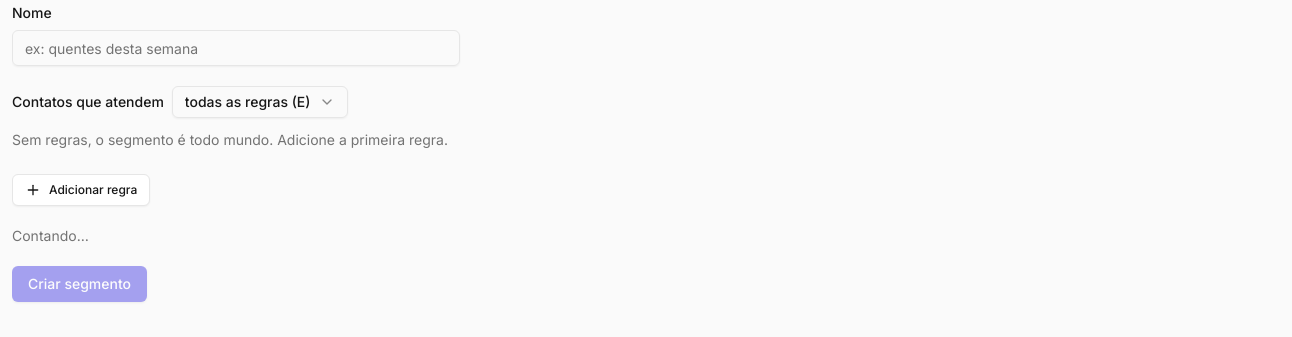
Test: SegmentBuilder › blocks saving while a rule is incomplete
This screenshot has width=1292, height=337.
Step 1. Type "x" into the field labelled "Nome" → (236, 48), box [12,30,460,66]
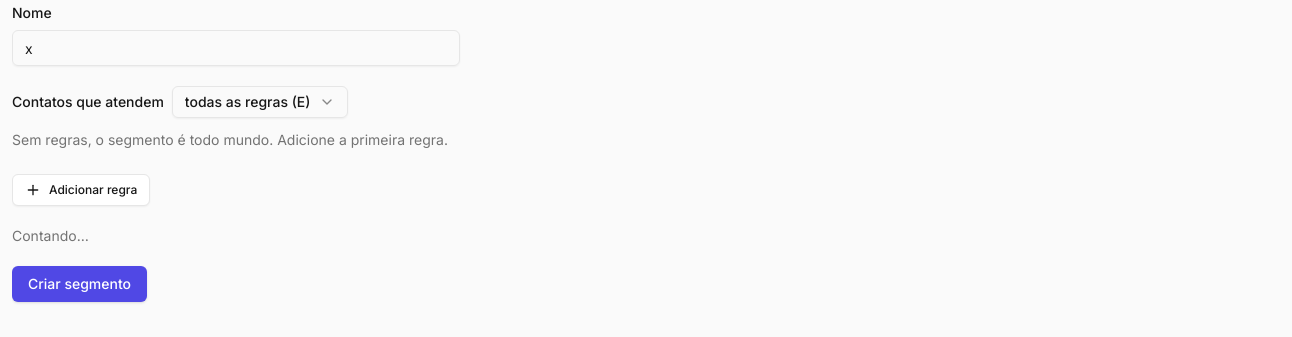
Step 2. Click the button "Adicionar regra" → click(81, 190), box [12,174,150,206]
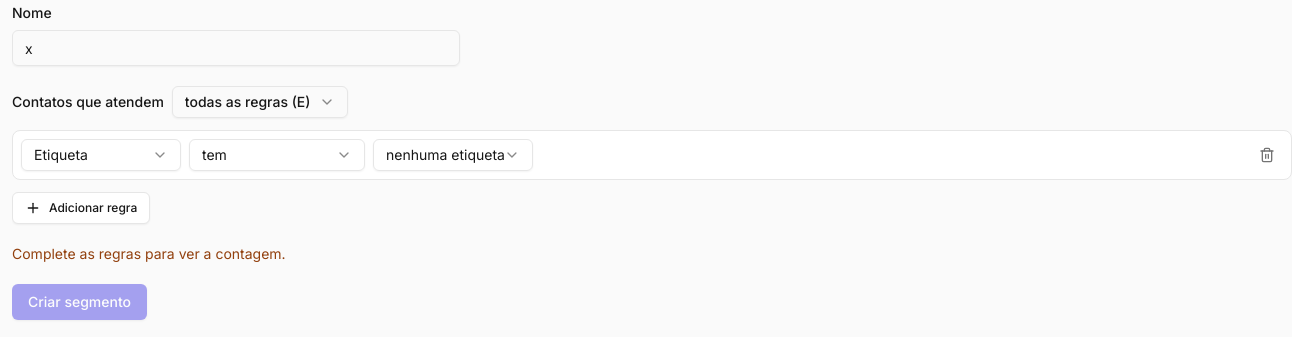
Expected: the text "Complete as regras para ver a contagem." is shown, [12,245,286,262]
Expected: the button "Criar segmento" is disabled, [12,284,147,320]
